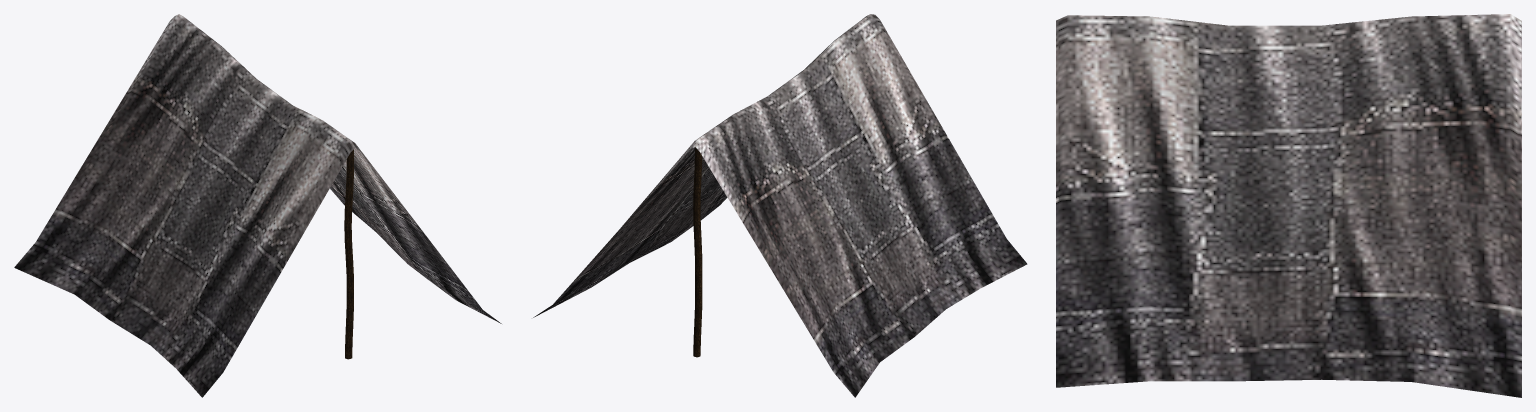
The model's file is Tent 2.fbx.
3 views of the same model, side by side, from view 1: azimuth 30°, elevation 25°; view 2: azimuth 150°, elevation 25°; view 3: azimuth 270°, elevation 25° (orthographic). The views are drawn at different scales.
Visible parts, largest first — view 1: Tent 2; view 2: Tent 2; view 3: Tent 2.
Part boxes in pixels (left/top/right/bottom): Tent 2: left=14, top=14, right=501, bottom=397; Tent 2: left=533, top=14, right=1027, bottom=397; Tent 2: left=1056, top=14, right=1521, bottom=397.
Bounding box in the file's own units: 3.28 × 2.1 × 3.16.
